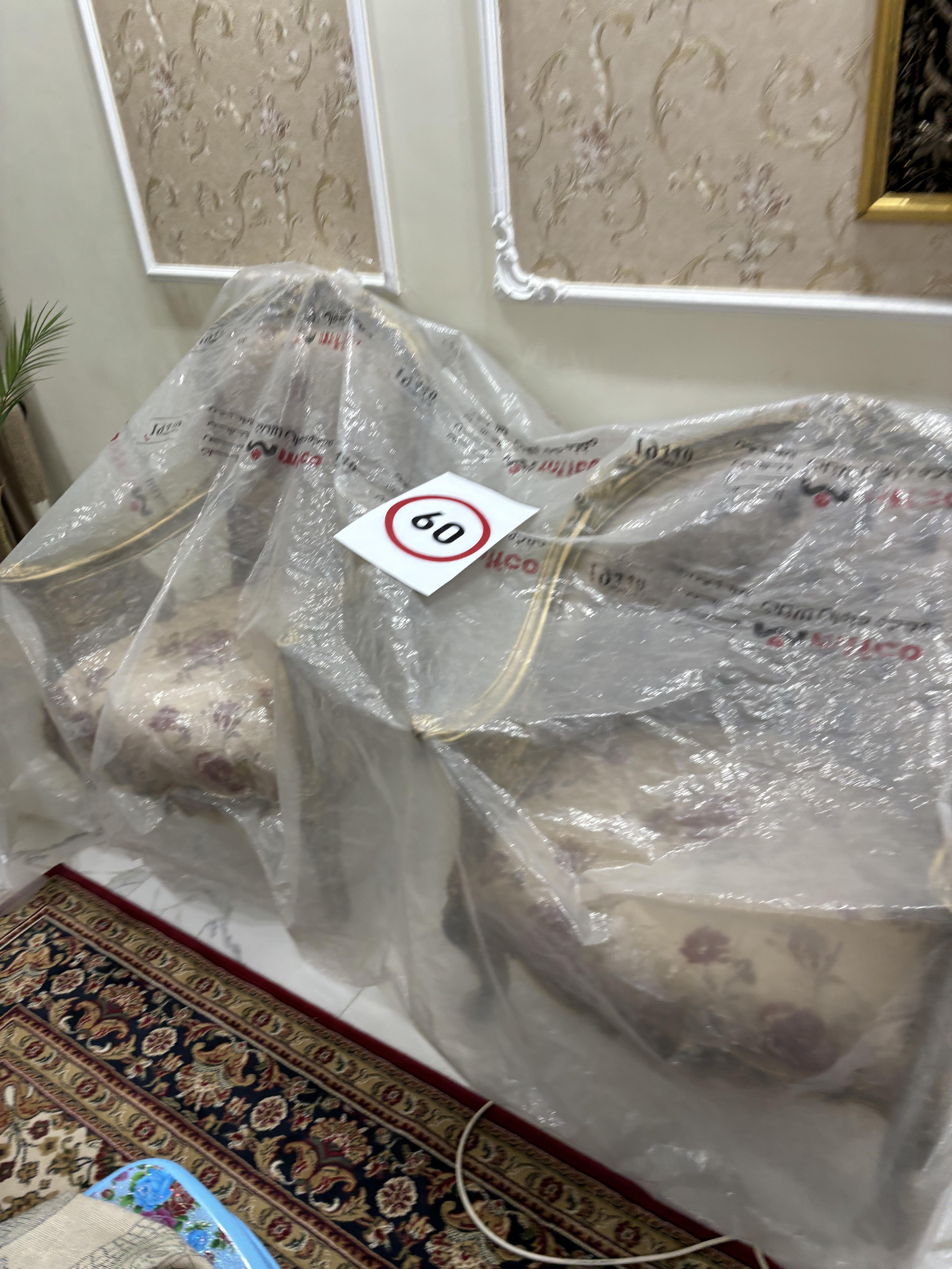60-Speed: (383, 492, 494, 565)
